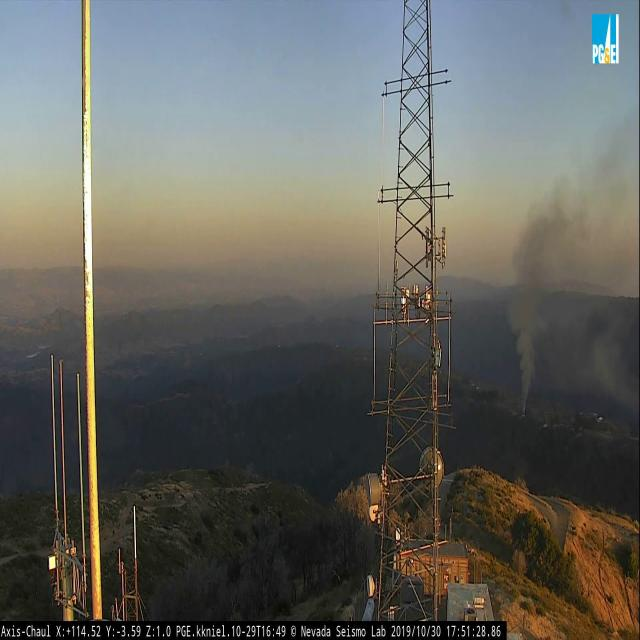smoke: (505, 112, 640, 421)
